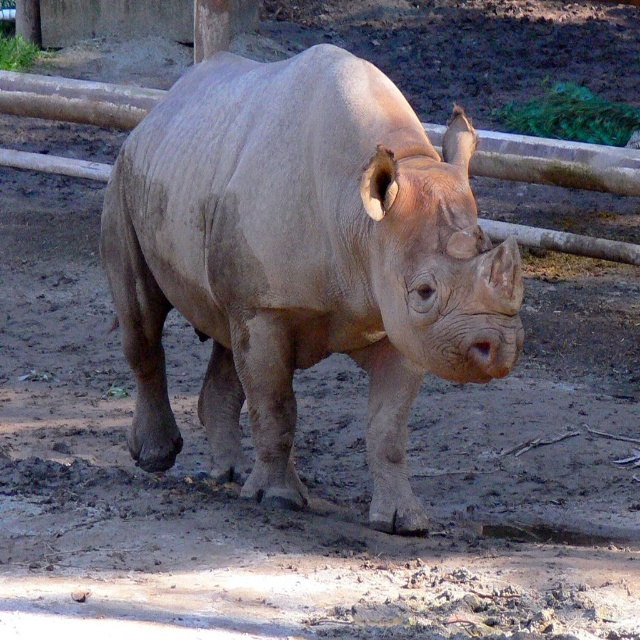Rhinoceros: (99, 43, 525, 534)
